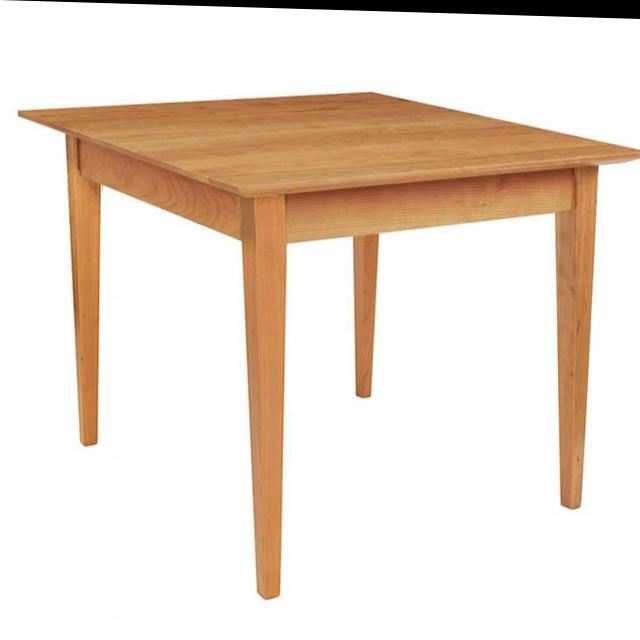Table: (6, 68, 640, 621)
